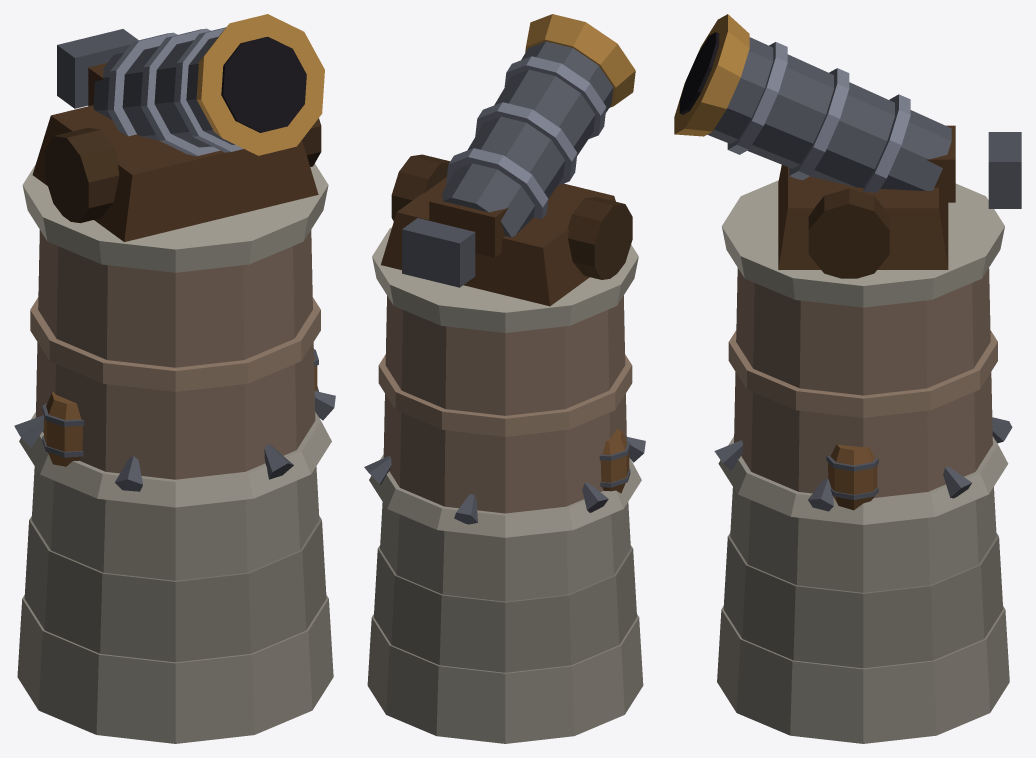
The model's file is tower_cannon_l3.glb.
The picture shows the model from 3 angles, left to right: view 1: azimuth 30°, elevation 25°; view 2: azimuth 150°, elevation 25°; view 3: azimuth 270°, elevation 25°; orthographic projection. The views are drawn at different scales.
Parts seen in each view (by area): view 1: Body, Turret; view 2: Body, Turret; view 3: Body, Turret.
Boxes of the visible parts, x1,y1,x2,y2 form: Body: (14, 163, 335, 743); Turret: (32, 14, 324, 241); Body: (364, 227, 645, 743); Turret: (381, 14, 635, 306); Body: (714, 180, 1012, 743); Turret: (674, 14, 1021, 278).
Size of the model in its own units: 0.6217 by 1.54 by 0.7353.
